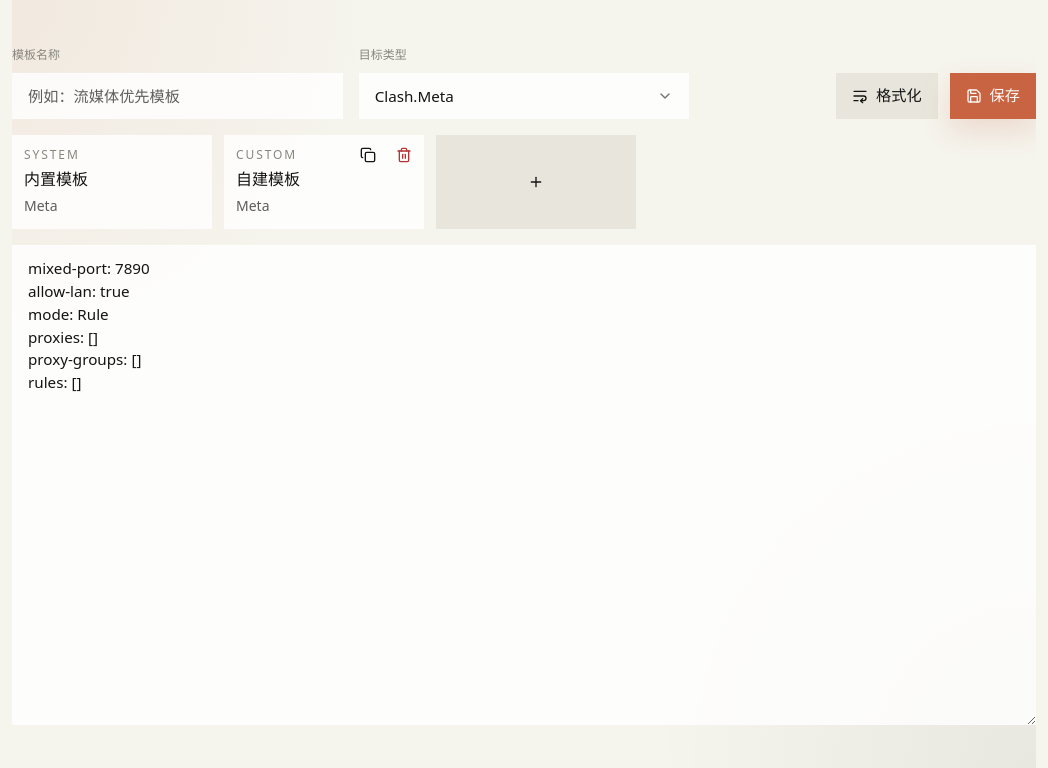
Test: TemplatesPage › 选择内置模板时会进入只读状态且不显示额外提示
Click the button "System 内置模板 meta" at [112, 182], box [24,147,200,216]
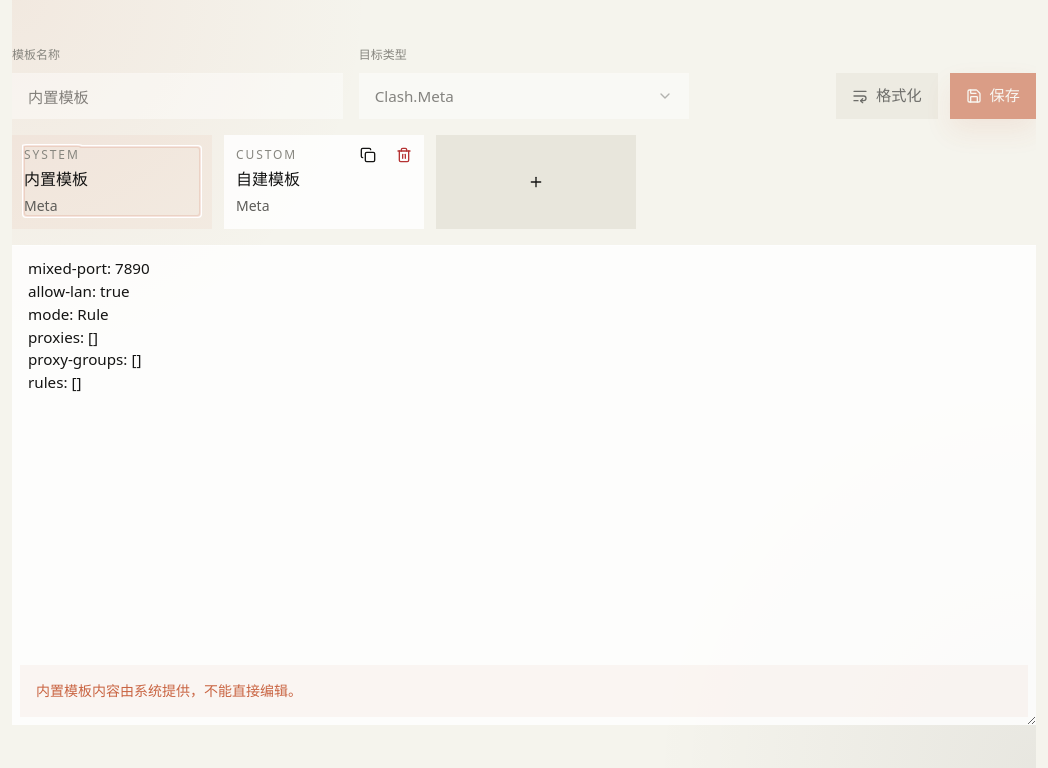
Expected: the field showing "内置模板" is disabled, [12,73,343,119]
Expected: the button with aria-label "保存模板" is disabled, [950,73,1036,119]
Expected: the button with aria-label "格式化模板" is disabled, [836,73,938,119]
